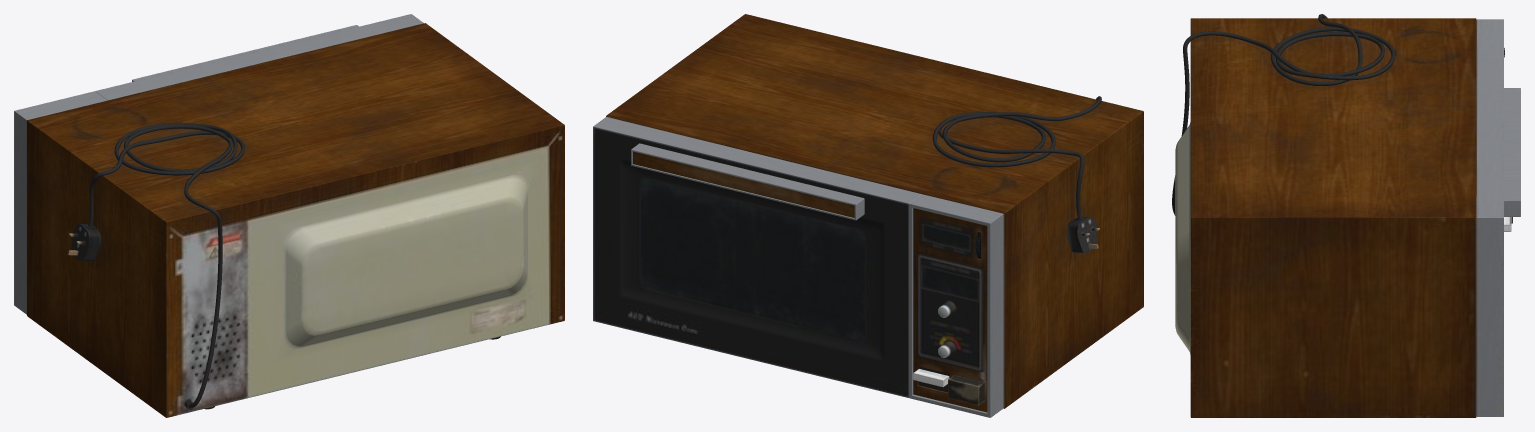
The model's file is vintage_microwave.glb.
3 renders of one model, left to right at view 1: azimuth 30°, elevation 25°; view 2: azimuth 150°, elevation 25°; view 3: azimuth 270°, elevation 25°, orthographic. The views are drawn at different scales.
Parts seen in each view (by area): view 1: vintage_microwave; view 2: vintage_microwave; view 3: vintage_microwave.
Part boxes in pixels (box(x1,y1,x2,y2)): vintage_microwave: box(14, 14, 564, 417); vintage_microwave: box(593, 14, 1143, 417); vintage_microwave: box(1172, 14, 1520, 417).
Bounding box in the file's own units: 0.5369 × 0.2629 × 0.3728.
2 materials, 2 textured.
